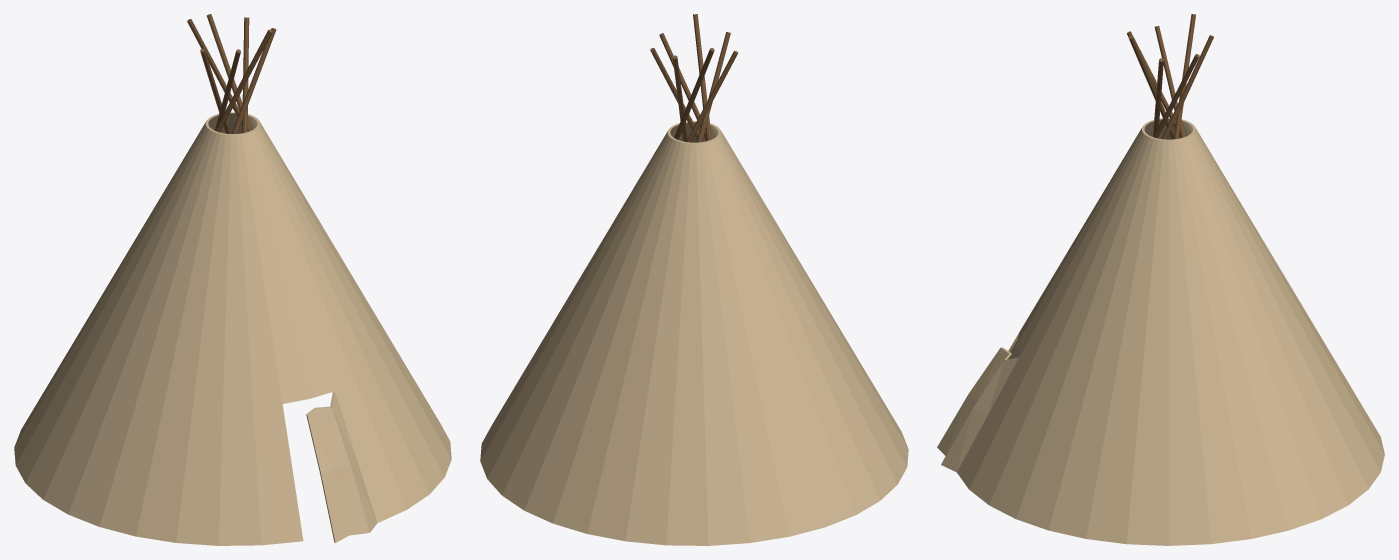
Rendered from NEW_RECOVERY_124_LOD1.fbx.
The picture shows the model from 3 angles, left to right: view 1: azimuth 30°, elevation 25°; view 2: azimuth 150°, elevation 25°; view 3: azimuth 270°, elevation 25°; orthographic projection. The views are drawn at different scales.
Visible parts, largest first — view 1: Finite_canvas_shell_and_attached_folded_flap, Pole_04, Pole_05, Pole_00, Pole_06, Pole_01; view 2: Finite_canvas_shell_and_attached_folded_flap, Pole_04, Pole_02, Pole_01, Pole_03; view 3: Finite_canvas_shell_and_attached_folded_flap, Pole_00, Pole_01.
Boxes of the visible parts, x1,y1,x2,y2 form: Finite_canvas_shell_and_attached_folded_flap: (14,112,451,545); Pole_04: (215,29,272,132); Pole_05: (231,28,276,133); Pole_00: (206,14,251,131); Pole_06: (242,17,249,133); Pole_01: (187,19,242,125); Finite_canvas_shell_and_attached_folded_flap: (480,121,908,545); Pole_04: (693,14,711,140); Pole_02: (686,50,737,142); Pole_01: (674,48,714,139); Pole_03: (696,32,730,142); Finite_canvas_shell_and_attached_folded_flap: (937,118,1384,545); Pole_00: (1162,35,1213,139); Pole_01: (1173,14,1195,139).
Bounding box in the file's own units: 400 × 414 × 436.
